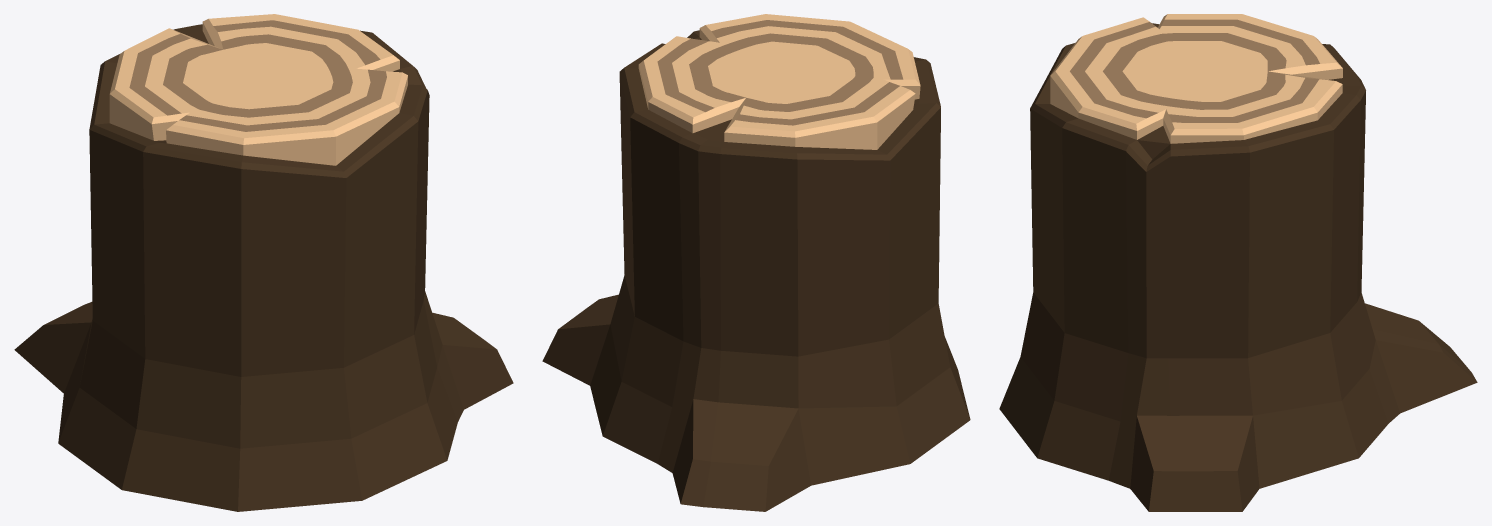
File: Tree Stump 2.fbx
3 views of the same model, side by side, from view 1: azimuth 30°, elevation 25°; view 2: azimuth 150°, elevation 25°; view 3: azimuth 270°, elevation 25° (orthographic). The views are drawn at different scales.
Visible parts, largest first — view 1: Tree Stump 2; view 2: Tree Stump 2; view 3: Tree Stump 2.
Part boxes in pixels (x1,y1,x2,y2): Tree Stump 2: [14, 14, 513, 511]; Tree Stump 2: [542, 14, 970, 511]; Tree Stump 2: [999, 14, 1477, 511].
Size of the model in its own units: 33.24 by 27.85 by 35.77.
